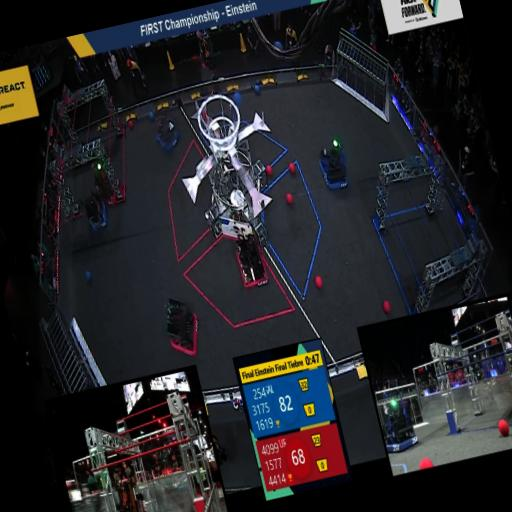robot: (156, 292, 206, 362), (102, 458, 159, 512), (314, 134, 358, 196), (232, 227, 272, 293), (378, 395, 420, 454), (86, 159, 124, 210), (148, 105, 185, 153), (80, 192, 112, 232)
